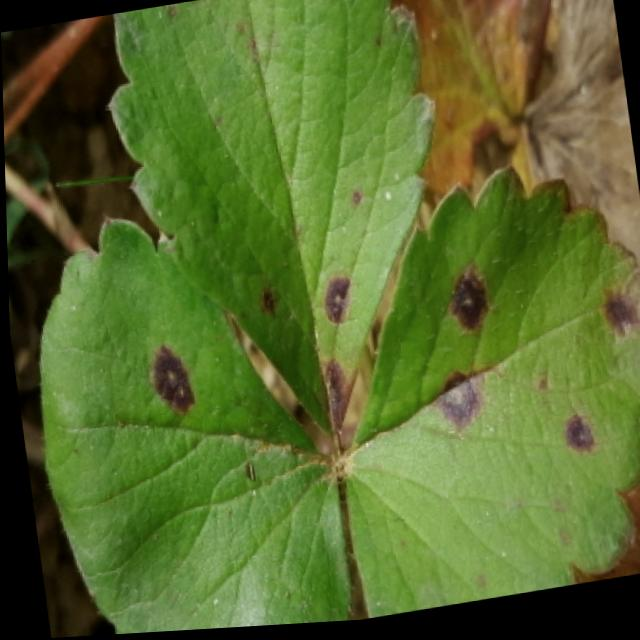Leaf Spot: (105, 0, 437, 462), (338, 170, 640, 622), (36, 219, 346, 636), (391, 0, 536, 226)
